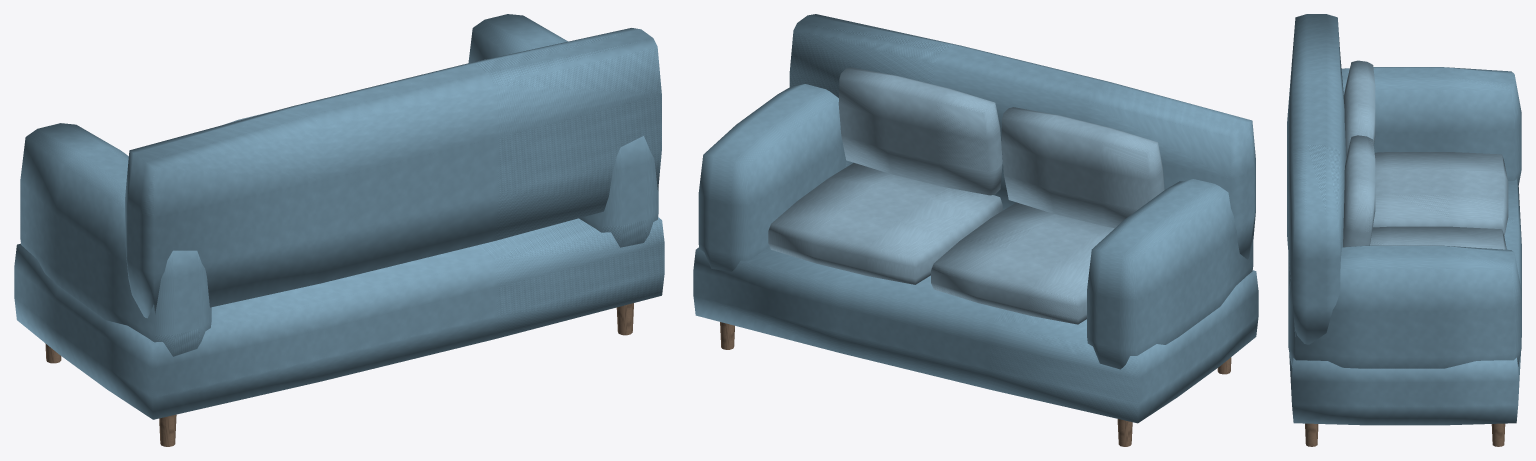
Rendered from sofa_blue.glb.
3 views of the same model, side by side, from view 1: azimuth 30°, elevation 25°; view 2: azimuth 150°, elevation 25°; view 3: azimuth 270°, elevation 25° (orthographic). The views are drawn at different scales.
Parts seen in each view (by area): view 1: sofa_blue_body; view 2: sofa_blue_body; view 3: sofa_blue_body.
Part boxes in pixels (left/top/right/bottom): sofa_blue_body: left=14, top=14, right=664, bottom=446; sofa_blue_body: left=693, top=14, right=1258, bottom=446; sofa_blue_body: left=1287, top=14, right=1521, bottom=446.
Bounding box in the file's own units: 2 × 1.09 × 0.955.
3 materials, 3 textured.
